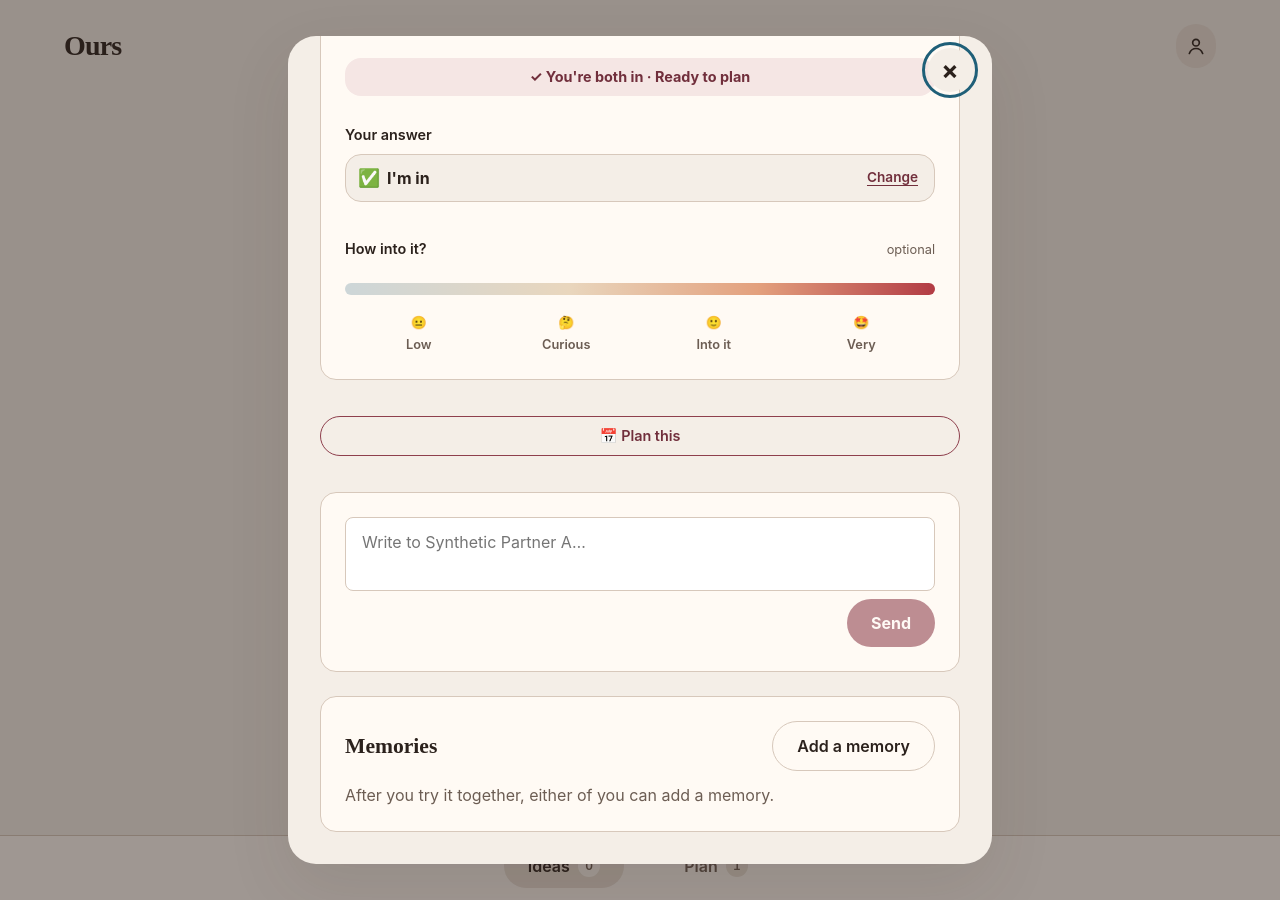
MemoryComposer › asks two questions (QA 2026-11-03), and either answer is enough
The image size is (1280, 900).
(page scrolled)
Click the button "Add a memory".
click(854, 746)  # box [772,721,935,771]
(page scrolled)
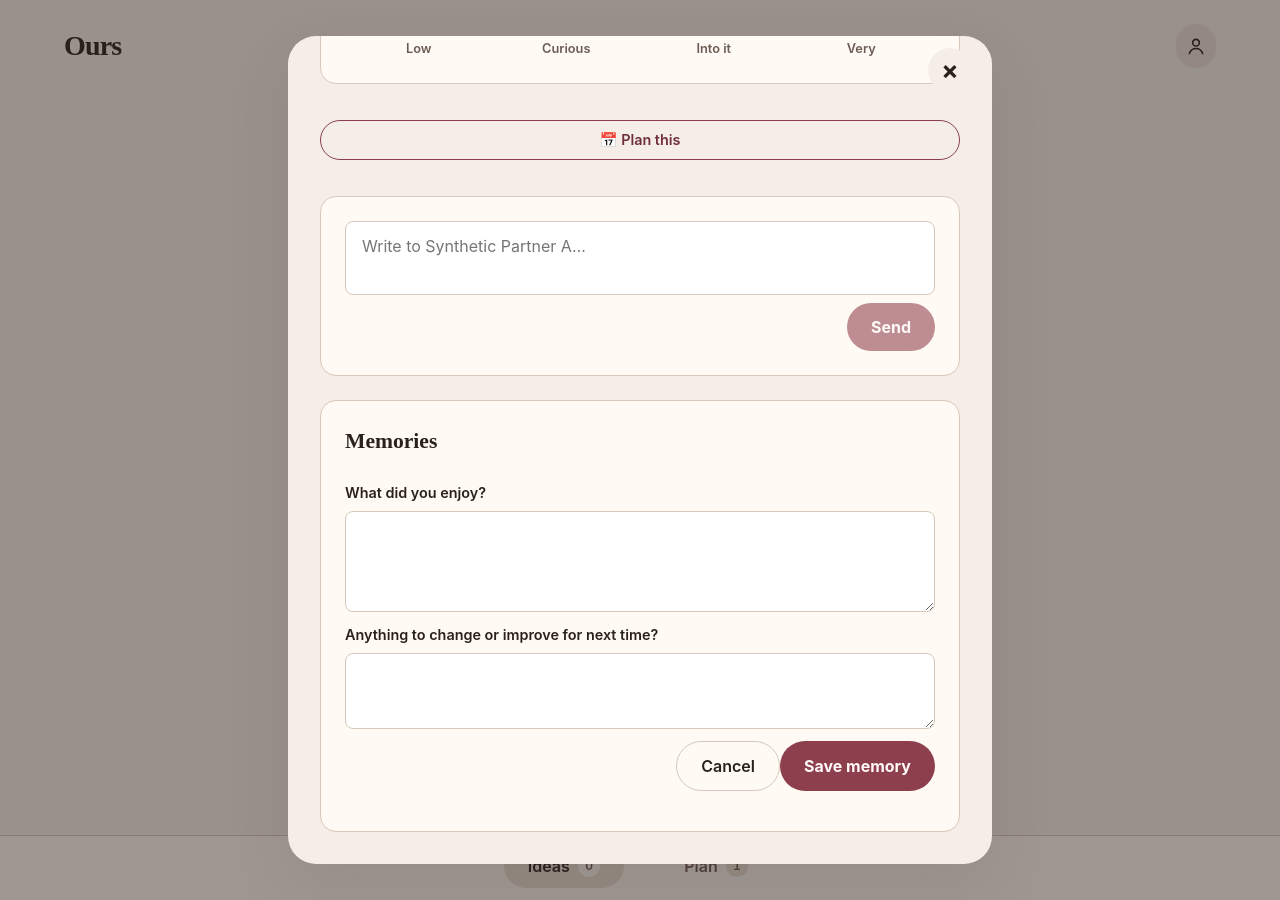
Result: the text box labelled "What did you enjoy?" is shown at [345,511,935,612]
Result: the text box labelled "Anything to change or improve for next time?" is shown at [345,653,935,729]
Click the button "Save memory".
click(857, 766)  # box [780,741,935,791]
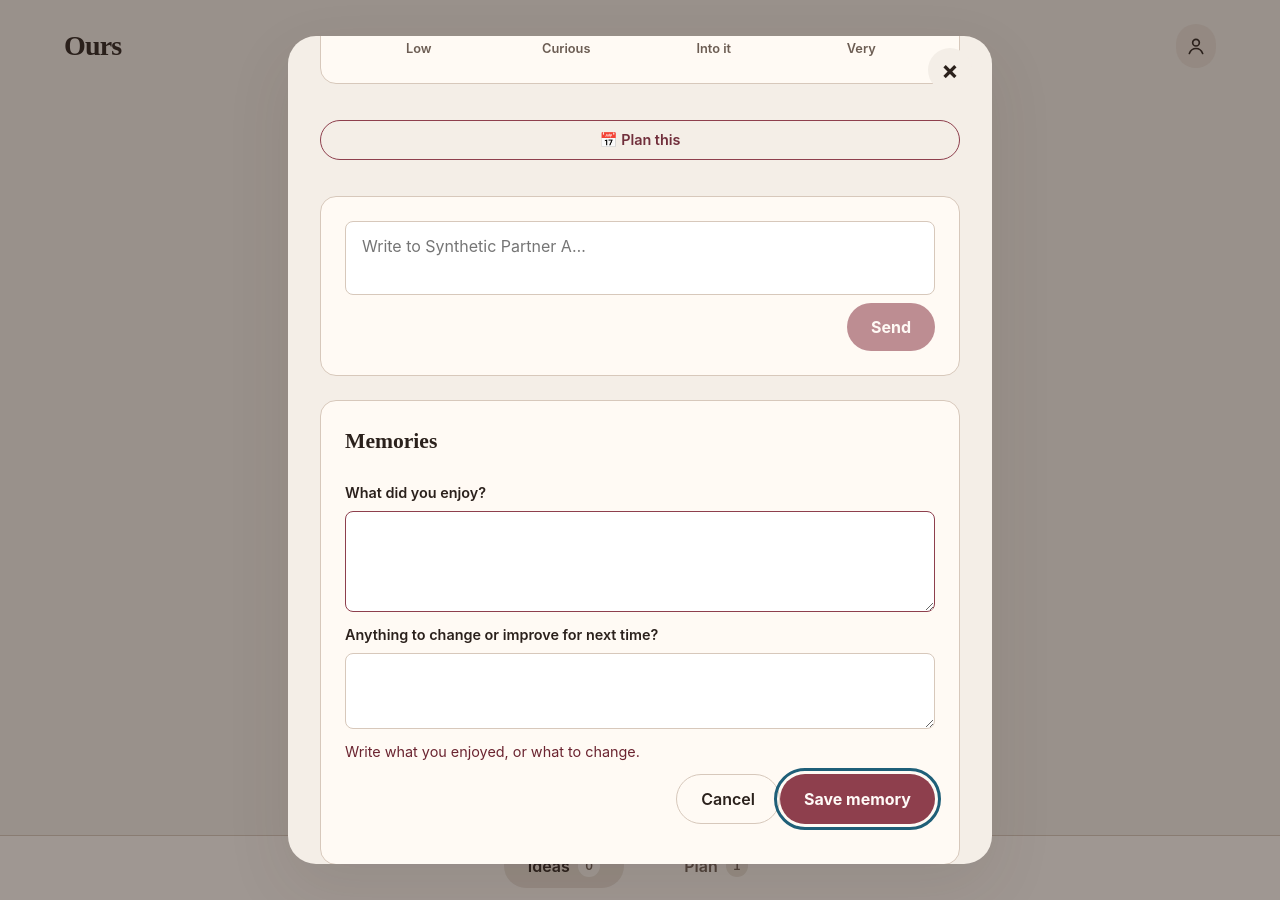
Result: the text "Write what you enjoyed, or what to change." is shown at [345,743,640,760]
